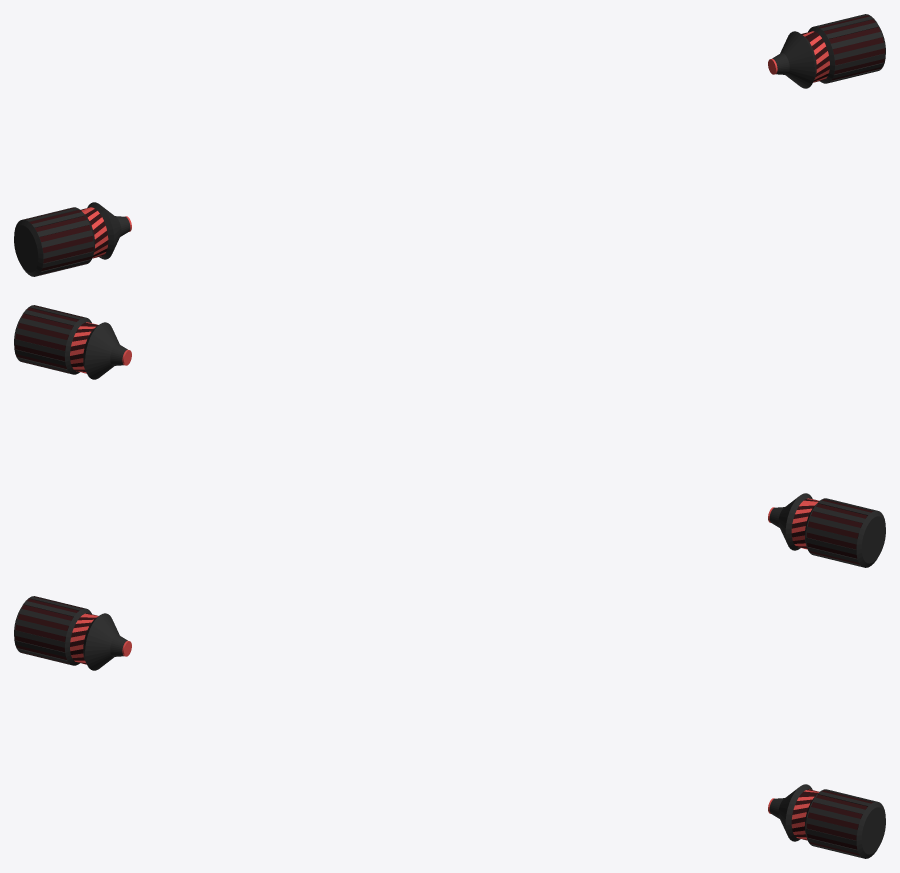
Rendered from Laser.fbx.
3 views of the same model, one above another, from view 1: azimuth 30°, elevation 25°; view 2: azimuth 150°, elevation 25°; view 3: azimuth 330°, elevation 25° (orthographic).
Visible parts, largest first — view 1: 柱体.001, 柱体; view 2: 柱体, 柱体.001; view 3: 柱体.001, 柱体.
Part boxes in pixels (x1,y1,x2,y2): 柱体.001: [768, 14, 885, 88]; 柱体: [14, 202, 131, 276]; 柱体: [768, 493, 885, 567]; 柱体.001: [14, 305, 131, 379]; 柱体.001: [768, 784, 885, 858]; 柱体: [14, 596, 131, 670].
Size of the model in its own units: 472 by 28.33 by 28.33.
